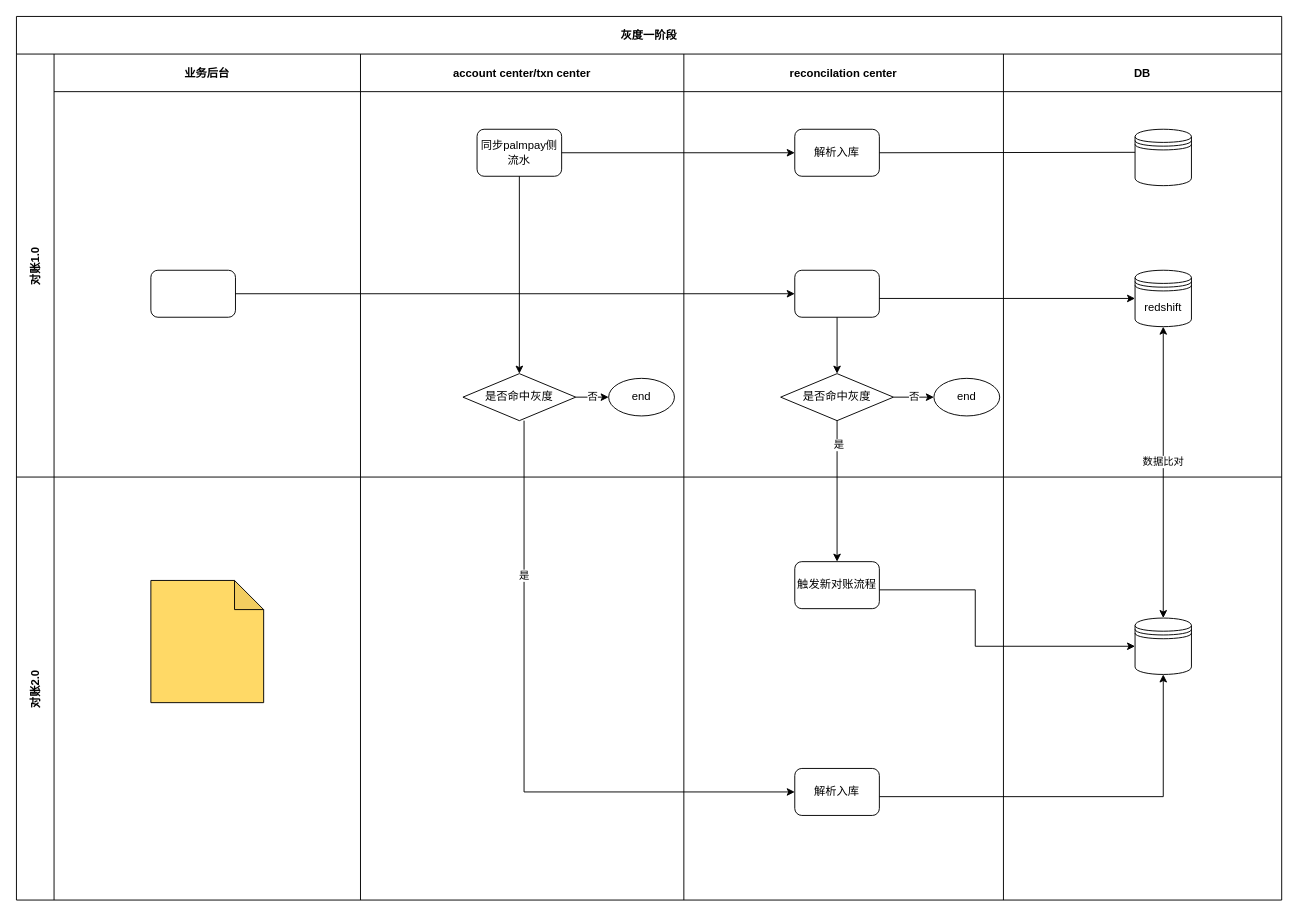
This 1298x917 diagram has some shape labels left out. Each missing label, with the centre of its shape:
aurora: (x=1162, y=645)
rds: (x=1162, y=157)
上传渠道对账单: (x=192, y=293)
灰度一阶段不开放2.0后台给业务使用: (x=207, y=641)
触发对账: (x=836, y=293)
